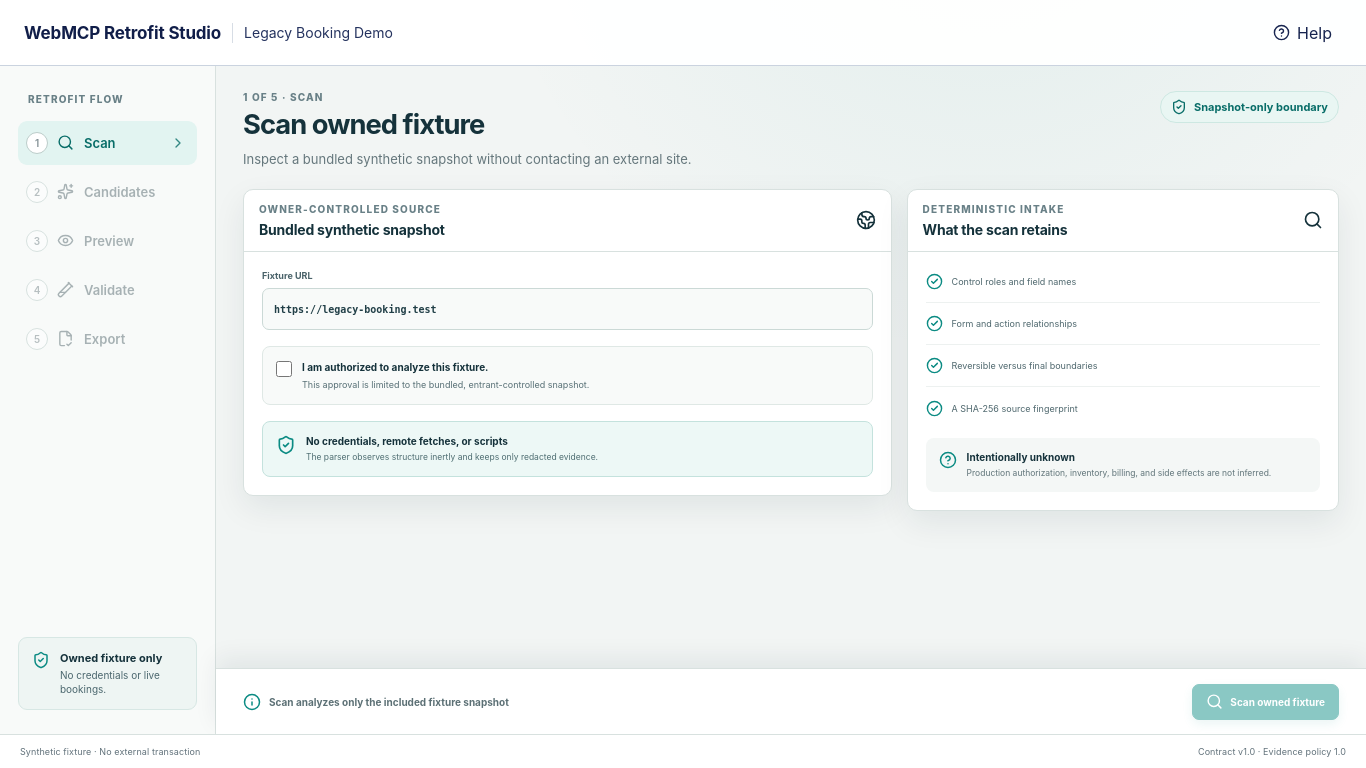
Test: Retrofit Studio workbench › switches review modes while preserving the evidence contract
Click the checkbox labelled "authorized to analyze this fixture".
click(284, 369)  # box [276,361,292,377]
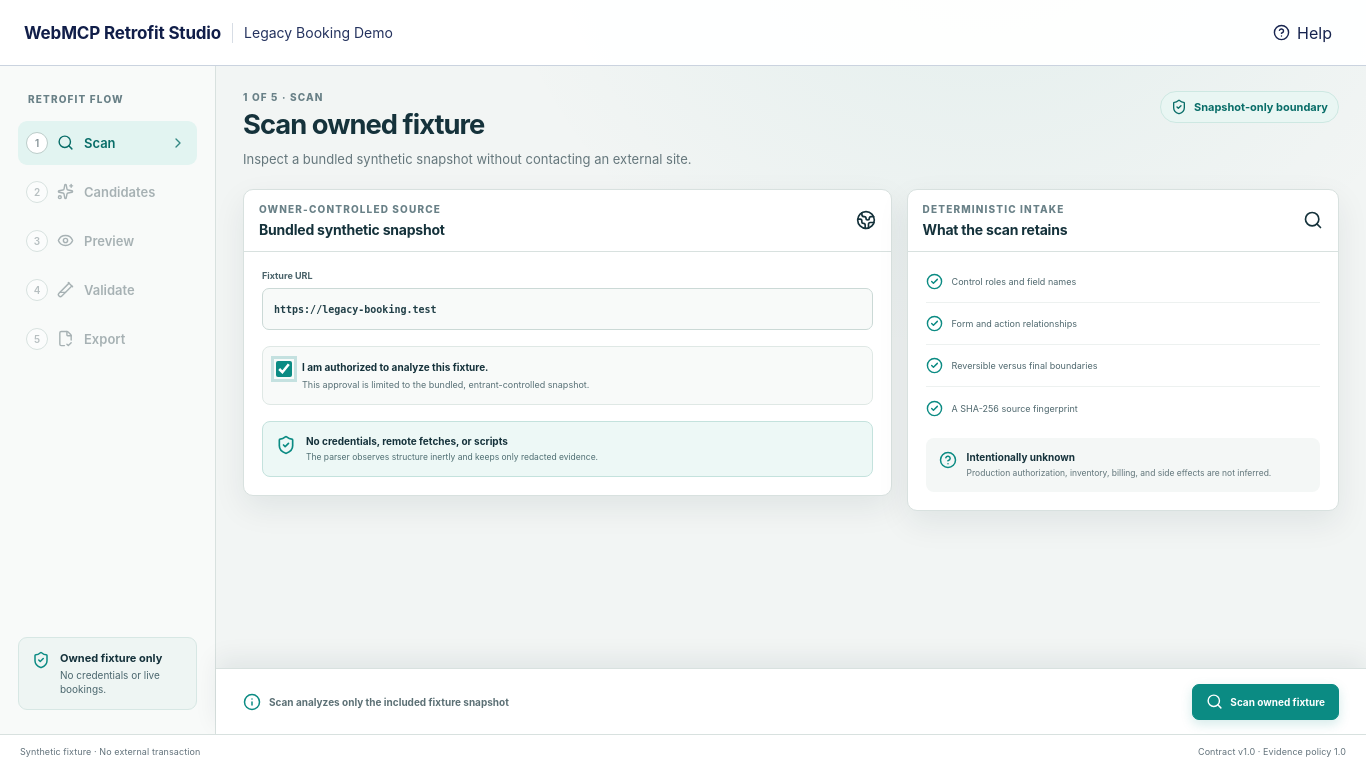
Click the button "Scan owned fixture".
click(1266, 702)  # box [1192,684,1339,720]
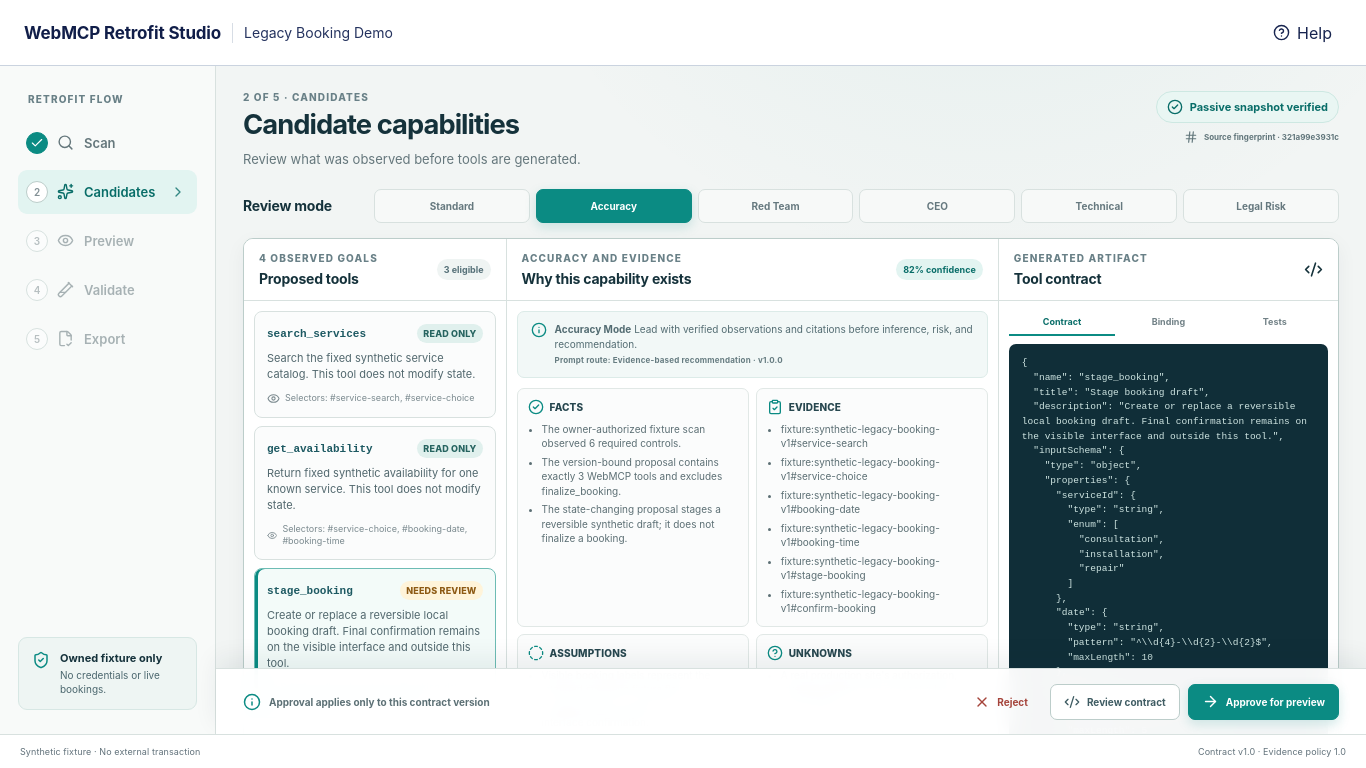
Expected: the heading "Candidate capabilities" is shown, [243,108,519,140]
Click the button named "Red Team Mode".
click(776, 206)  # box [698,189,854,223]
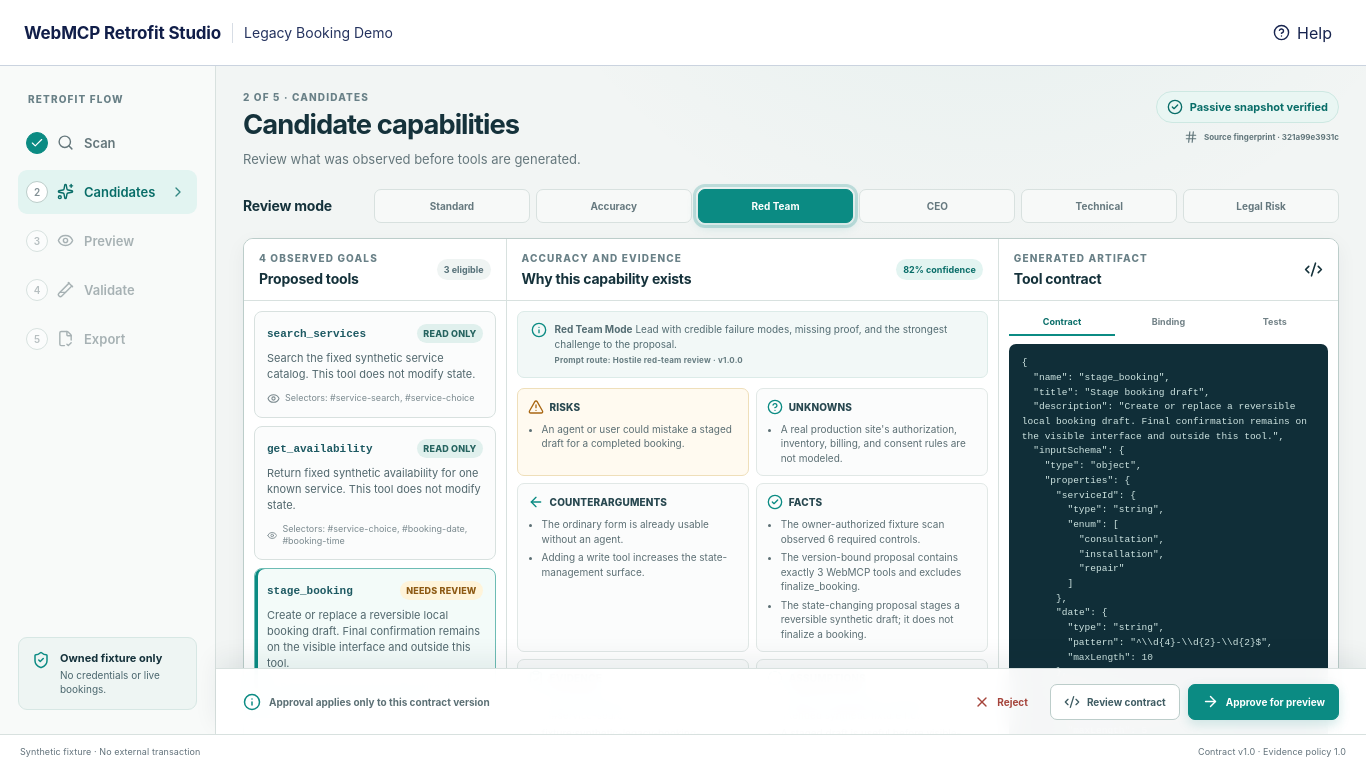
Expected: the heading "Risks" is shown, [528,399,580,415]
Expected: the text "Red Team Mode" is shown, [554,323,632,335]
Expected: the text "Prompt route: Hostile red-team review · v1.0.0" is shown, [554,355,743,365]
